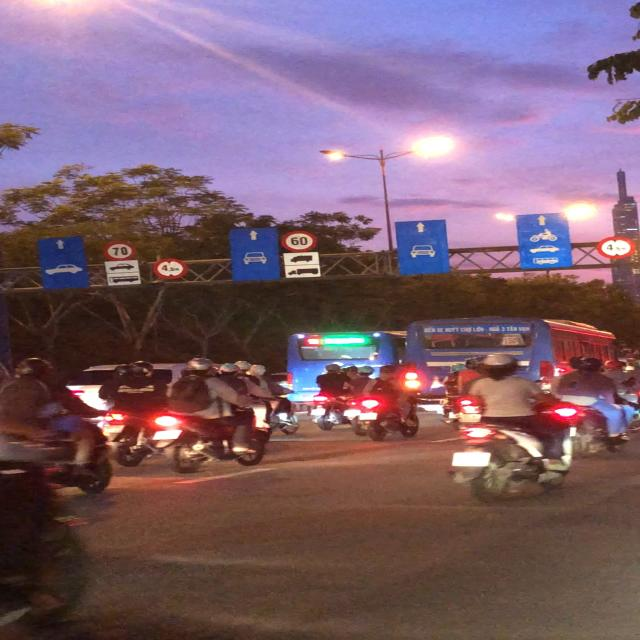Bien bao han che chieu cao: (591, 233, 640, 260), (151, 256, 190, 280)
Bien bao toc do toi da cho phep: (277, 229, 319, 251), (99, 239, 141, 260)
